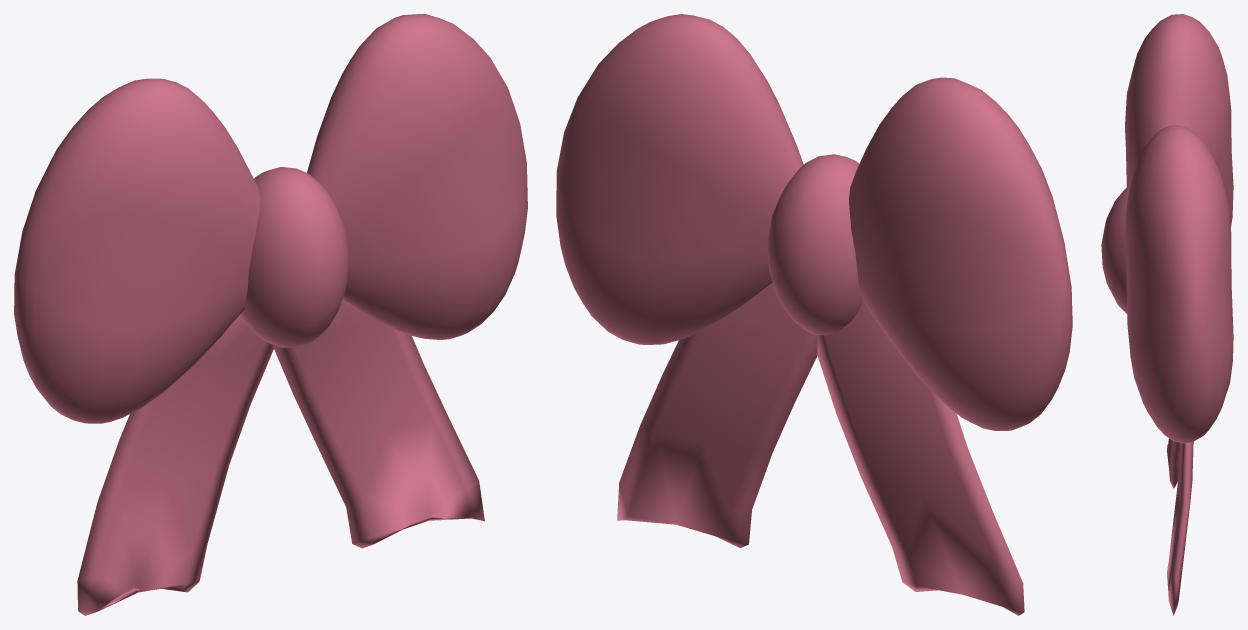
Rendered from laco-cetim.glb.
3 renders of one model, left to right at view 1: azimuth 30°, elevation 25°; view 2: azimuth 150°, elevation 25°; view 3: azimuth 270°, elevation 25°, orthographic. The views are drawn at different scales.
Parts seen in each view (by area): view 1: laco_cetim; view 2: laco_cetim; view 3: laco_cetim.
Part boxes in pixels (x1,y1,x2,y2): laco_cetim: (14,14,527,615); laco_cetim: (556,14,1072,615); laco_cetim: (1101,14,1233,615).
Size of the model in its own units: 1 by 0.9813 by 0.2593.
